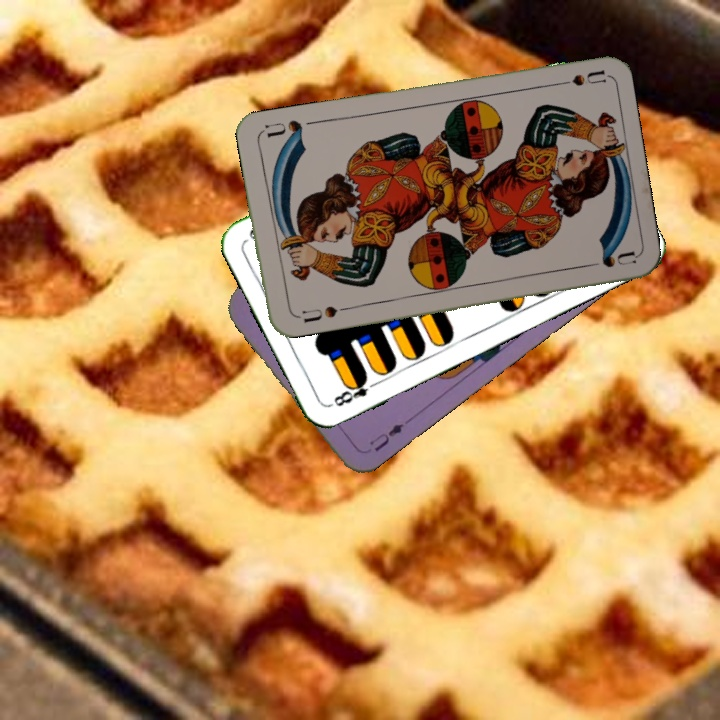E8: (326, 372, 382, 410)
EU: (365, 419, 407, 454)
SU: (547, 66, 606, 89), (290, 301, 340, 326)
